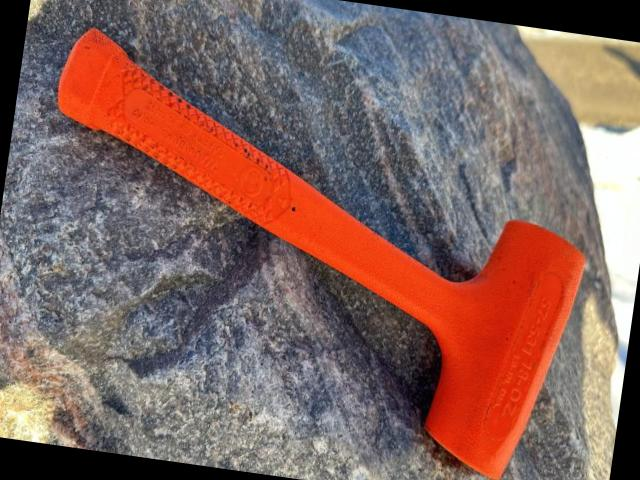hammer: (12, 25, 609, 480)
